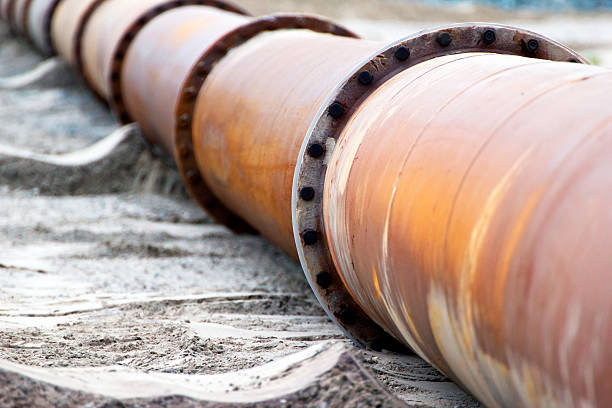rust: (275, 188, 370, 350), (169, 64, 219, 222), (381, 27, 552, 58), (230, 13, 341, 39)
